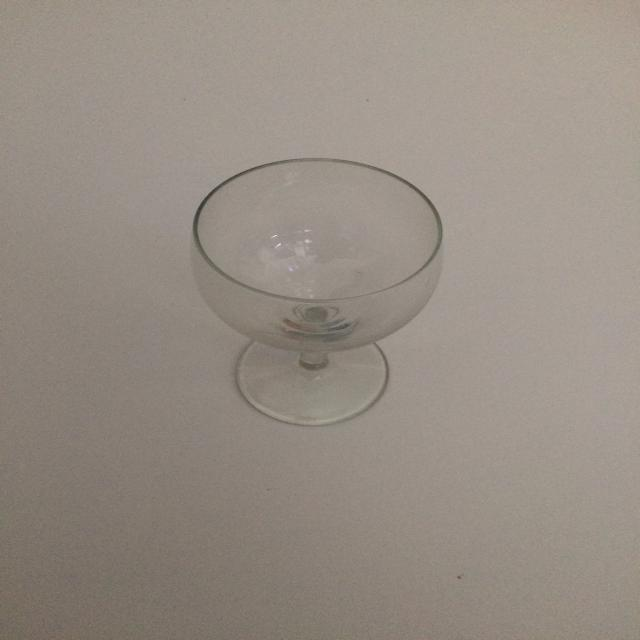glass: (189, 157, 444, 426)
